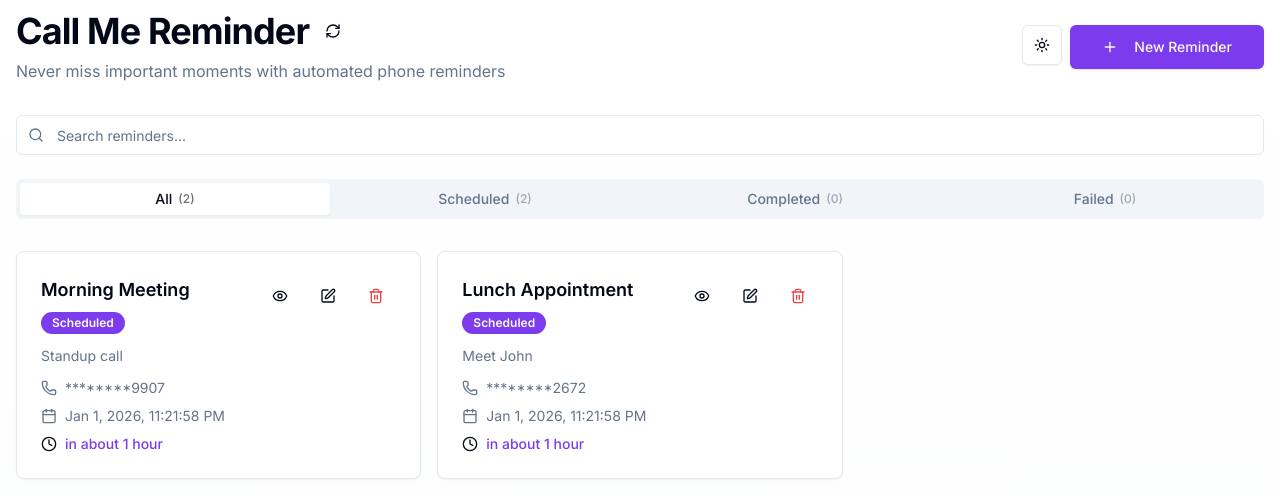
Call Me Reminder E2E Tests › should search reminders
Type "Morning" into the field with placeholder "Search reminders..." at (640, 135), box x1=16 y1=115 x2=1264 y2=155
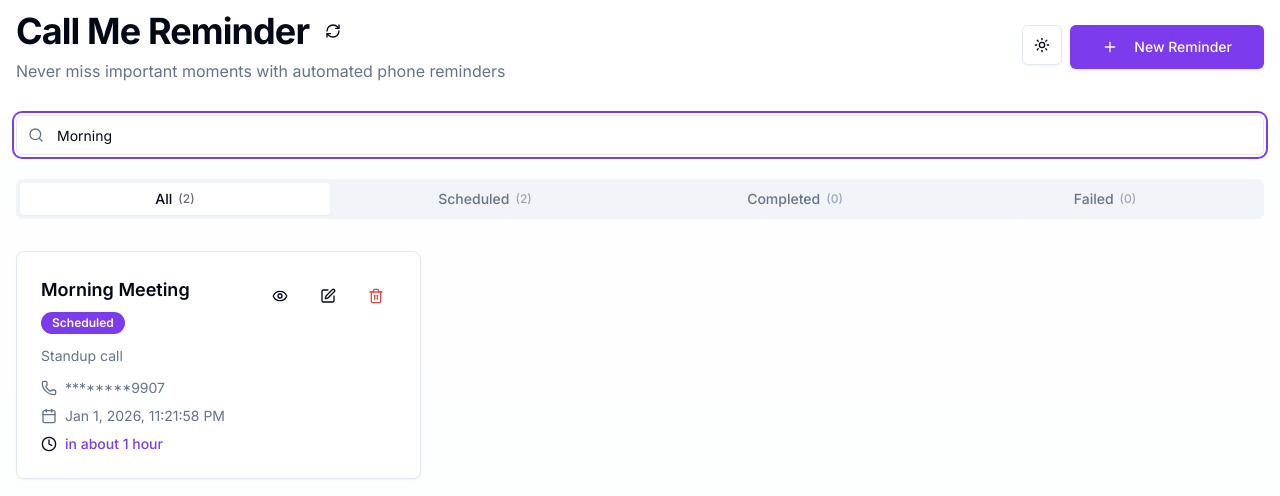
Check: the heading "Morning Meeting" is shown, box x1=41 y1=279 x2=190 y2=300
Check: the heading "Lunch Appointment" is gone
